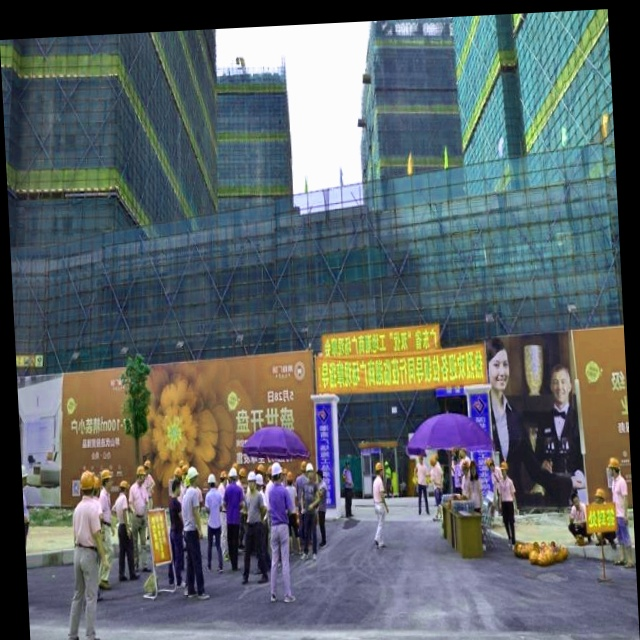Con_Casco: (80, 470, 95, 496), (270, 461, 284, 484), (187, 465, 198, 486), (374, 460, 383, 476), (306, 462, 314, 479)
